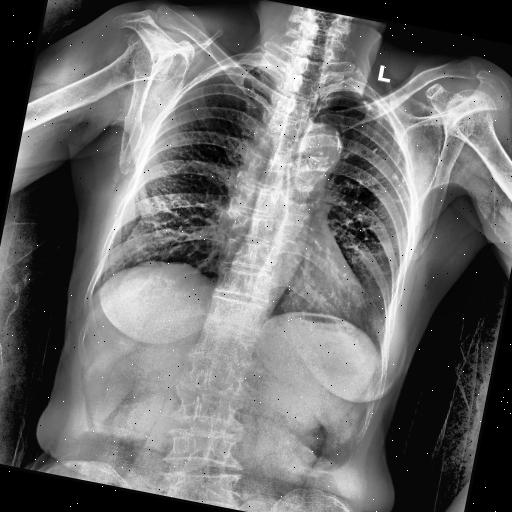0- Aortic enlargement: (292, 118, 347, 188), (288, 118, 344, 184), (298, 118, 350, 173)
13- Pulmonary fibrosis: (341, 96, 428, 206), (390, 194, 412, 206)
2- Calcification: (360, 98, 376, 112), (391, 172, 401, 182), (372, 147, 378, 154)
3- Cardiomegaly: (209, 252, 380, 338)
8- Nodule-Mass: (390, 171, 399, 181), (372, 146, 378, 154)
9- Other lesion: (390, 171, 399, 181), (372, 146, 378, 154)
